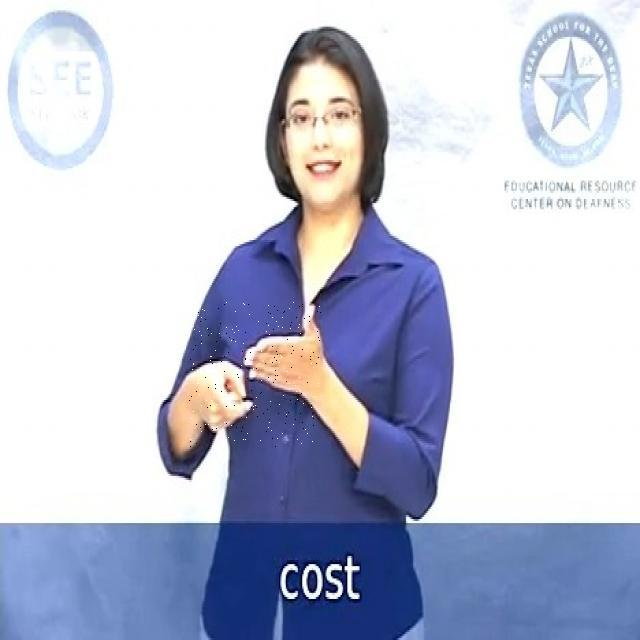cost: (188, 302, 322, 448)
